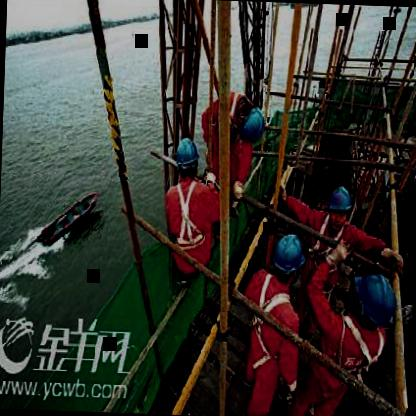helmet: (352, 264, 400, 338), (272, 234, 308, 281), (236, 100, 268, 148), (174, 134, 202, 188), (325, 182, 354, 230)
